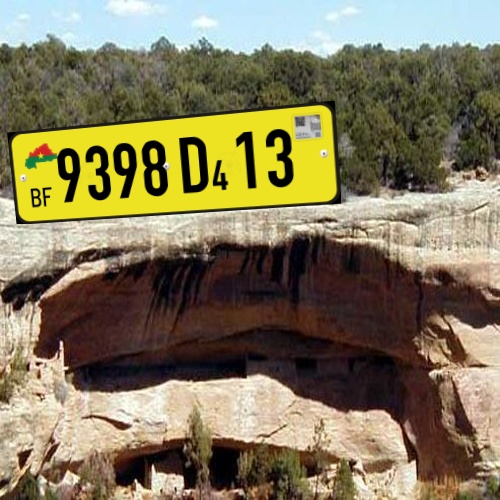plate: (5, 97, 360, 231)
